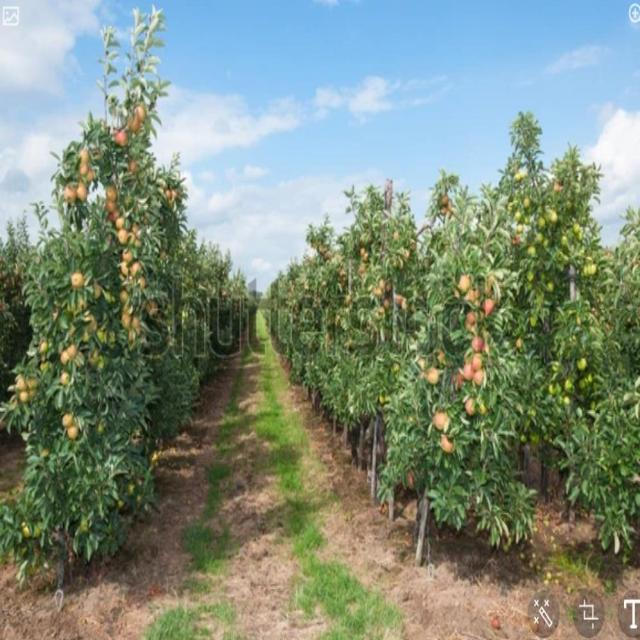row: (108, 305, 420, 605)
